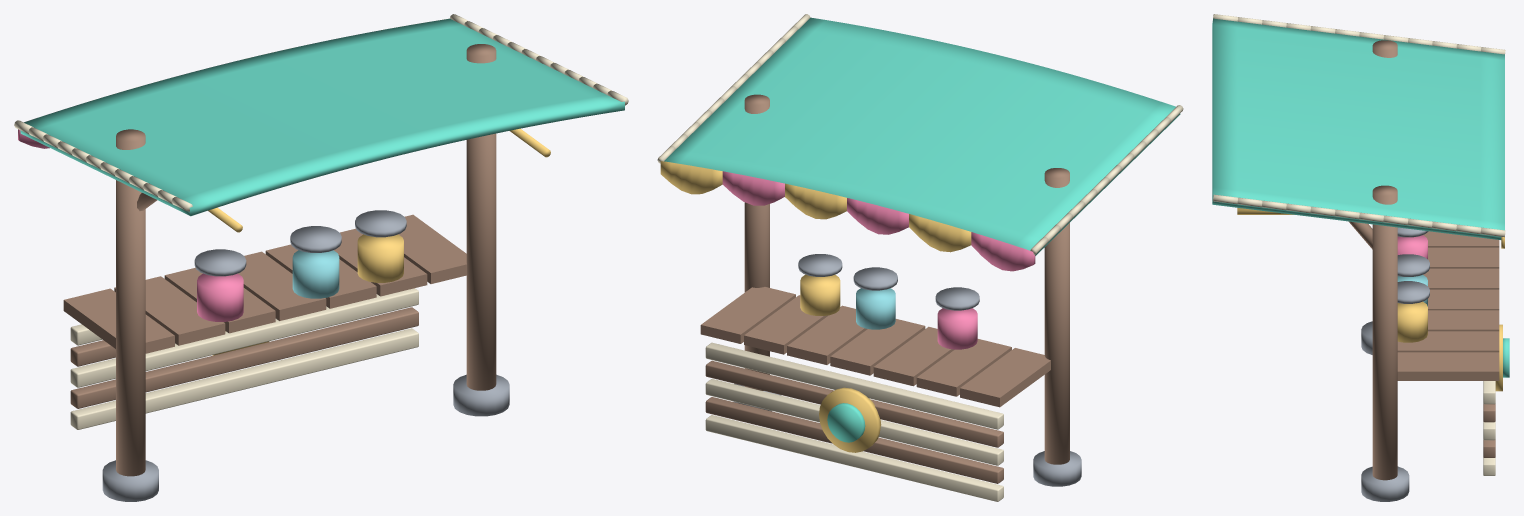
File: FestivalCampShop.fbx
3 views of the same model, side by side, from view 1: azimuth 30°, elevation 25°; view 2: azimuth 150°, elevation 25°; view 3: azimuth 270°, elevation 25° (orthographic). The views are drawn at different scales.
Visible parts, largest first — view 1: FestivalCampShop CanvasMint__CanvasMint, FestivalCampShop Wood__Wood, FestivalCampShop Cream__Cream, FestivalCampShop Metal__Metal, FestivalCampShop CanvasCream__CanvasCream, FestivalCampShop Gold__Gold, FestivalCampShop Glass__Glass, FestivalCampShop Rose__Rose; view 2: FestivalCampShop CanvasMint__CanvasMint, FestivalCampShop Wood__Wood, FestivalCampShop Cream__Cream, FestivalCampShop CanvasRose__CanvasRose, FestivalCampShop CanvasGold__CanvasGold, FestivalCampShop Metal__Metal, FestivalCampShop Gold__Gold, FestivalCampShop CanvasCream__CanvasCream, FestivalCampShop Rose__Rose, FestivalCampShop Glass__Glass, FestivalCampShop Mint__Mint; view 3: FestivalCampShop CanvasMint__CanvasMint, FestivalCampShop Wood__Wood, FestivalCampShop CanvasCream__CanvasCream, FestivalCampShop Metal__Metal, FestivalCampShop Gold__Gold, FestivalCampShop Cream__Cream, FestivalCampShop Rose__Rose.
Boxes of the visible parts, box(x1,y1,x2,y2) form: FestivalCampShop CanvasMint__CanvasMint: box(20, 18, 624, 216); FestivalCampShop Wood__Wood: box(63, 44, 496, 476); FestivalCampShop Cream__Cream: box(70, 288, 418, 429); FestivalCampShop Metal__Metal: box(102, 210, 509, 501); FestivalCampShop CanvasCream__CanvasCream: box(14, 14, 628, 211); FestivalCampShop Gold__Gold: box(208, 128, 550, 355); FestivalCampShop Glass__Glass: box(292, 250, 339, 298); FestivalCampShop Rose__Rose: box(197, 273, 243, 321); FestivalCampShop CanvasMint__CanvasMint: box(664, 17, 1180, 255); FestivalCampShop Wood__Wood: box(700, 94, 1069, 483); FestivalCampShop Cream__Cream: box(705, 342, 1003, 501); FestivalCampShop CanvasRose__CanvasRose: box(722, 171, 1035, 271); FestivalCampShop CanvasGold__CanvasGold: box(660, 161, 971, 252); FestivalCampShop Metal__Metal: box(733, 254, 1081, 486); FestivalCampShop Gold__Gold: box(800, 274, 881, 452); FestivalCampShop CanvasCream__CanvasCream: box(657, 14, 1183, 254); FestivalCampShop Rose__Rose: box(937, 308, 977, 349); FestivalCampShop Glass__Glass: box(856, 288, 895, 329); FestivalCampShop Mint__Mint: box(827, 403, 865, 442); FestivalCampShop CanvasMint__CanvasMint: box(1212, 18, 1504, 239); FestivalCampShop Wood__Wood: box(1348, 40, 1499, 480); FestivalCampShop CanvasCream__CanvasCream: box(1213, 14, 1505, 237); FestivalCampShop Metal__Metal: box(1361, 227, 1429, 501); FestivalCampShop Gold__Gold: box(1237, 208, 1502, 391); FestivalCampShop Cream__Cream: box(1483, 381, 1495, 475); FestivalCampShop Rose__Rose: box(1397, 235, 1427, 259).
Size of the model in its own units: 417 by 342 by 286.
